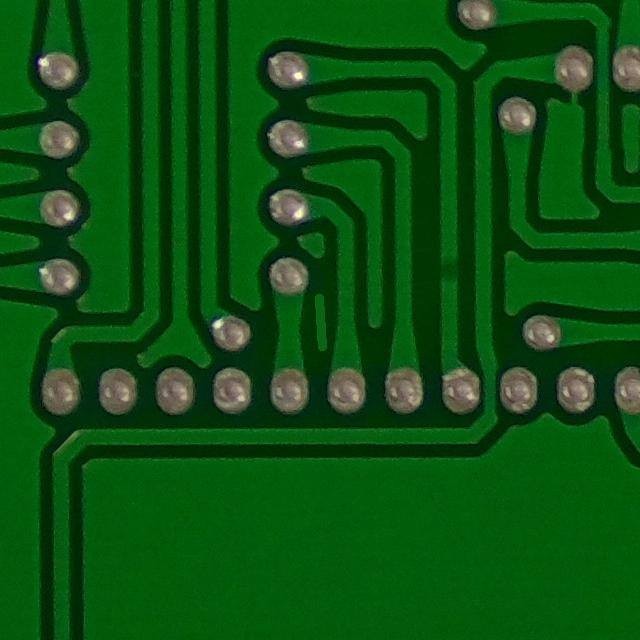spurious_copper: (298, 280, 342, 361)
